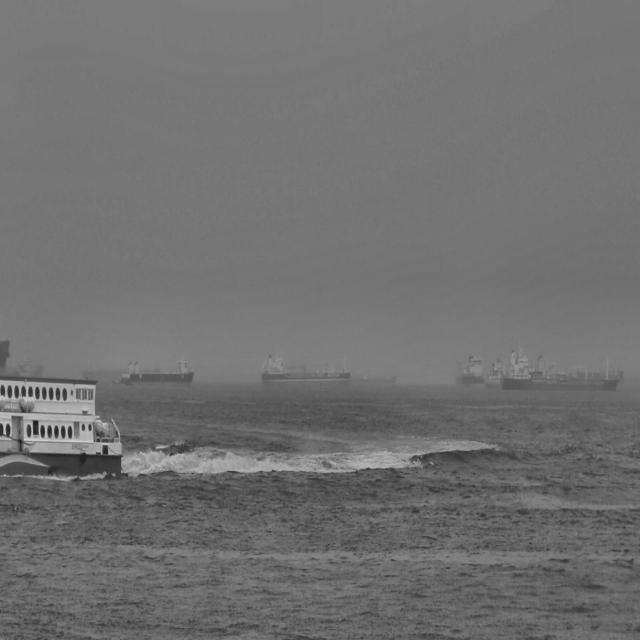ship: (0, 373, 125, 481), (500, 344, 620, 392), (260, 349, 352, 385), (118, 356, 195, 386), (457, 351, 484, 388), (483, 355, 503, 389)
